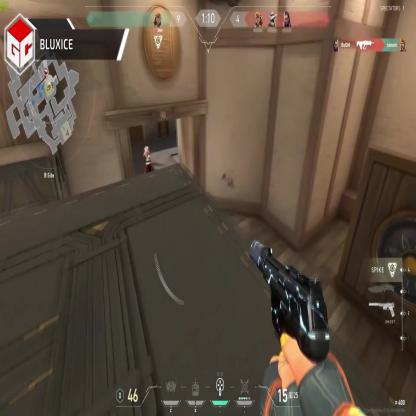enemy: (142, 146, 154, 181)
enemy_head: (144, 146, 149, 154)
